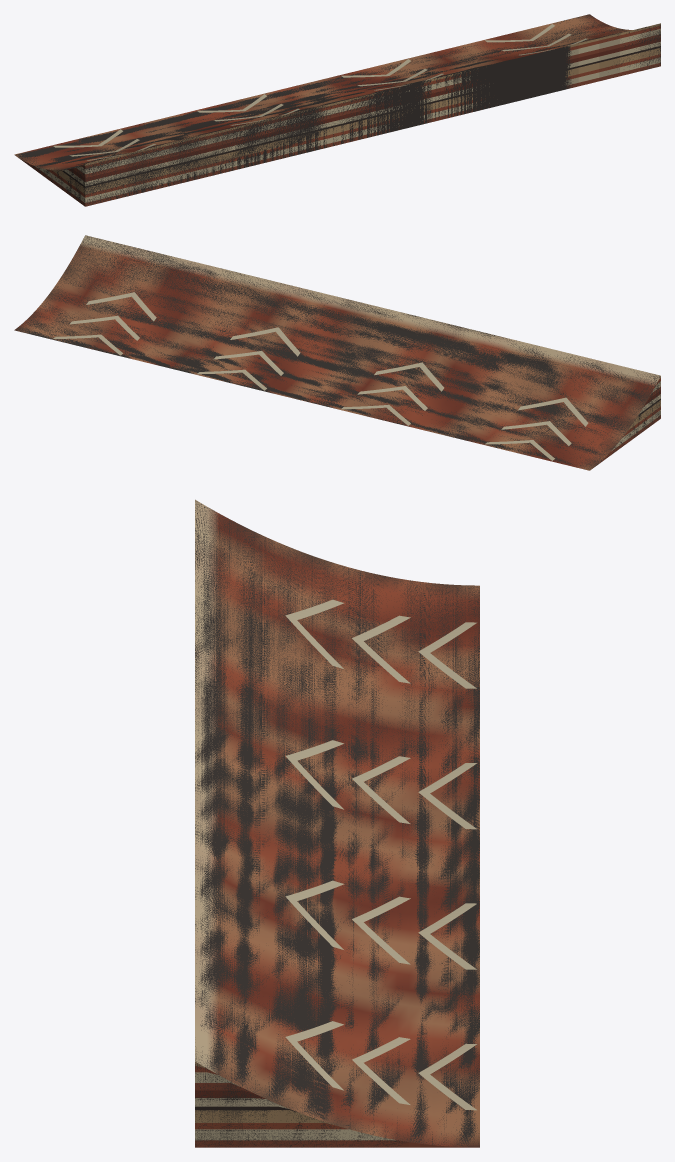
The model's file is mesa_lip_kicker_12x4x56.glb.
The picture shows the model from 3 angles, top to bottom: view 1: azimuth 30°, elevation 25°; view 2: azimuth 150°, elevation 25°; view 3: azimuth 270°, elevation 25°; orthographic projection. The views are drawn at different scales.
Parts seen in each view (by area): view 1: mesa_lip_kicker_12x4x56, mesa_lip_kicker_12x4x56-col; view 2: mesa_lip_kicker_12x4x56, mesa_lip_kicker_12x4x56-col; view 3: mesa_lip_kicker_12x4x56, mesa_lip_kicker_12x4x56-col.
Part boxes in pixels (<box>): mesa_lip_kicker_12x4x56: <box>14,14,660,206</box>; mesa_lip_kicker_12x4x56-col: <box>15,14,660,206</box>; mesa_lip_kicker_12x4x56: <box>15,235,660,470</box>; mesa_lip_kicker_12x4x56-col: <box>14,235,660,470</box>; mesa_lip_kicker_12x4x56: <box>195,500,479,1147</box>; mesa_lip_kicker_12x4x56-col: <box>195,500,479,1147</box>.
Bounding box in the file's own units: 56 × 4 × 12.
